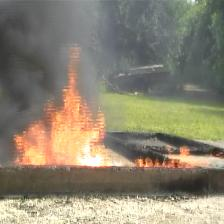fire: (14, 44, 115, 166), (136, 145, 209, 167)
